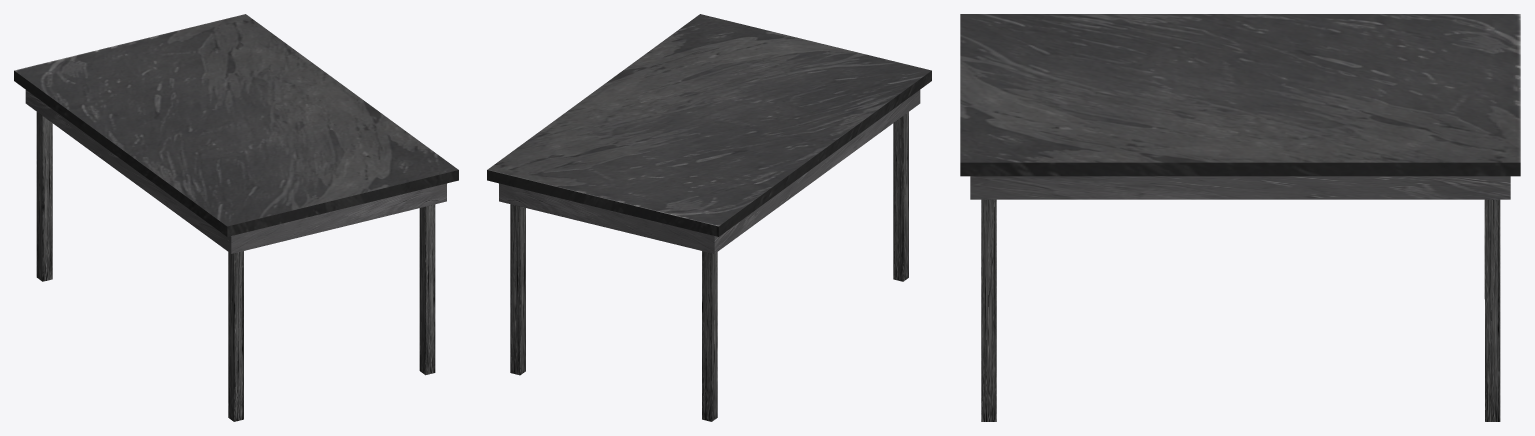
Rendered from Mesa.fbx.
3 renders of one model, left to right at view 1: azimuth 30°, elevation 25°; view 2: azimuth 150°, elevation 25°; view 3: azimuth 270°, elevation 25°, orthographic. The views are drawn at different scales.
Parts seen in each view (by area): view 1: Cube, Temps; view 2: Cube, Temps; view 3: Cube, Temps.
Boxes of the visible parts, x1,y1,x2,y2 form: Cube: [14, 14, 458, 421]; Temps: [25, 90, 446, 253]; Cube: [487, 14, 931, 421]; Temps: [499, 90, 920, 253]; Cube: [960, 14, 1520, 421]; Temps: [970, 176, 1510, 199].
Size of the model in its own units: 548 by 463 by 873.
